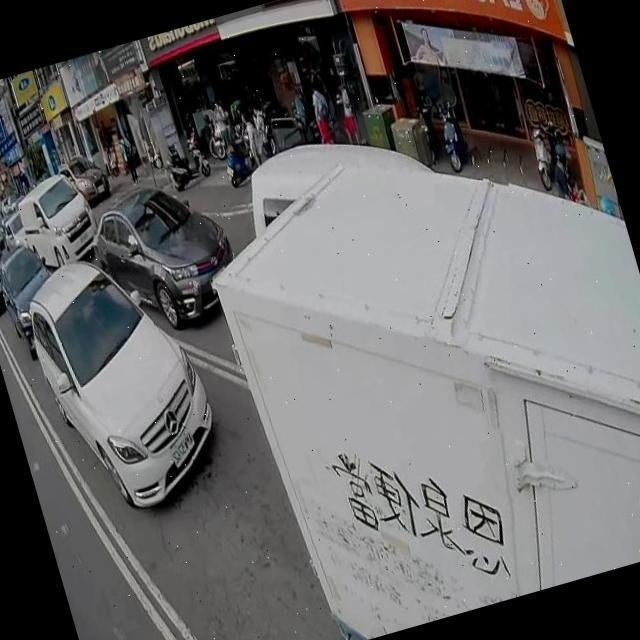person: (302, 74, 340, 146), (234, 106, 269, 172), (330, 72, 362, 144), (544, 138, 580, 200), (208, 96, 237, 156), (250, 104, 279, 159), (117, 129, 141, 184), (304, 61, 326, 95)
